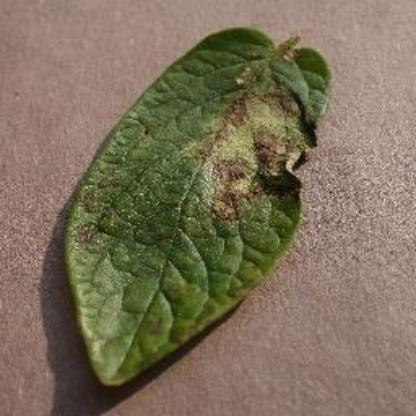Late-Blight: (23, 31, 365, 397), (366, 358, 372, 368)
